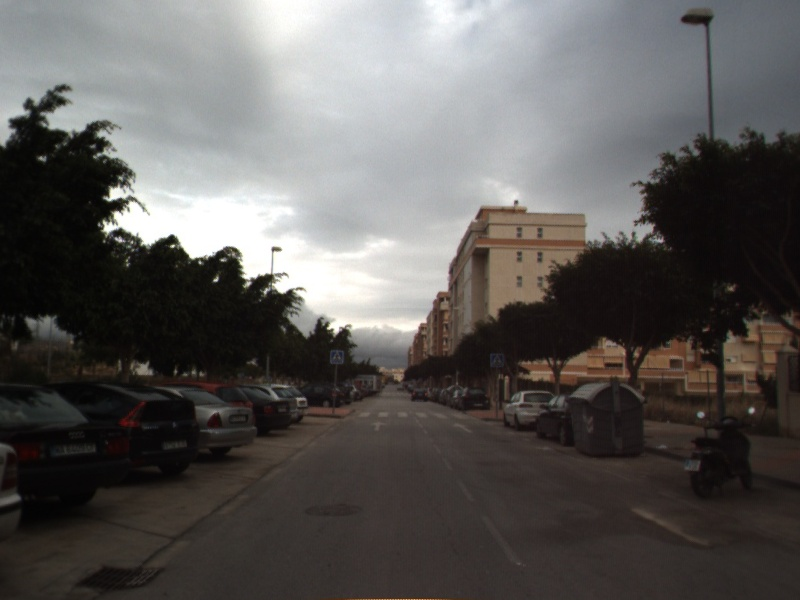STRAIGHT: (451, 421, 475, 435), (368, 419, 390, 433)
